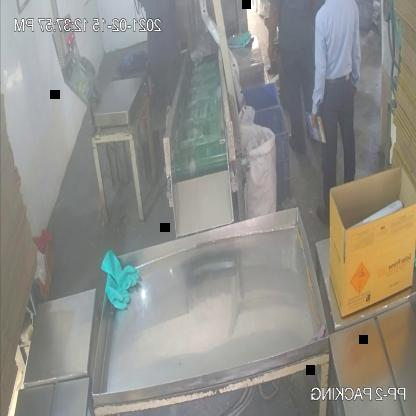no_glove: (307, 3, 329, 136), (266, 0, 281, 76)
